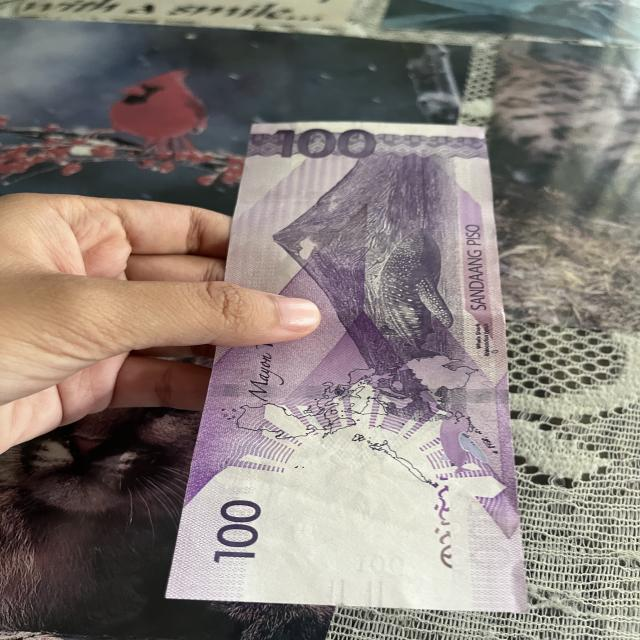see_through_mark: (422, 466, 463, 581)
value: (270, 125, 385, 163)
value_watermark: (348, 551, 415, 578)
